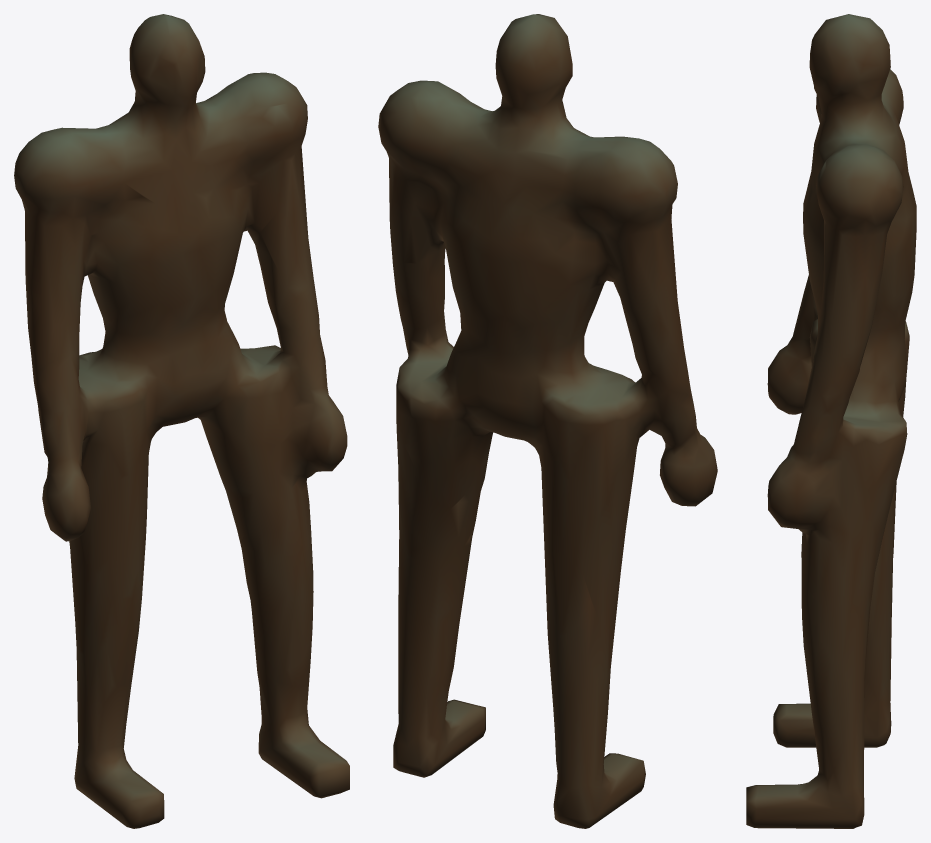
File: street3.glb
3 renders of one model, left to right at view 1: azimuth 30°, elevation 25°; view 2: azimuth 150°, elevation 25°; view 3: azimuth 270°, elevation 25°, orthographic. The views are drawn at different scales.
Parts seen in each view (by area): view 1: sv_m; view 2: sv_m; view 3: sv_m.
Boxes of the visible parts, left/top/right/bottom form: sv_m: left=14, top=14, right=349, bottom=828; sv_m: left=378, top=14, right=717, bottom=828; sv_m: left=746, top=14, right=916, bottom=828.
Bounding box in the file's own units: 0.3958 × 1 × 0.2043.
